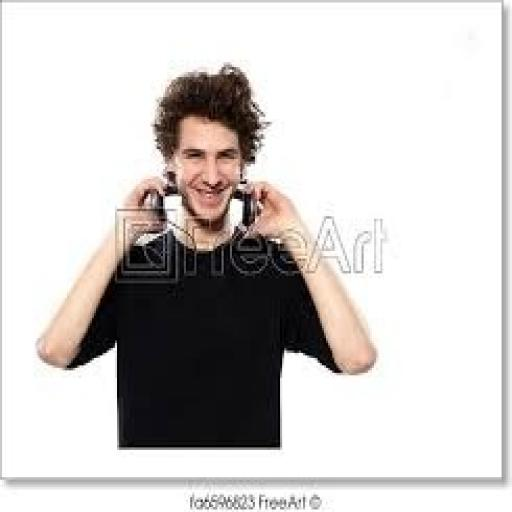listening_to_music: (34, 60, 380, 452)
